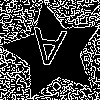A: (28, 27, 67, 77)
